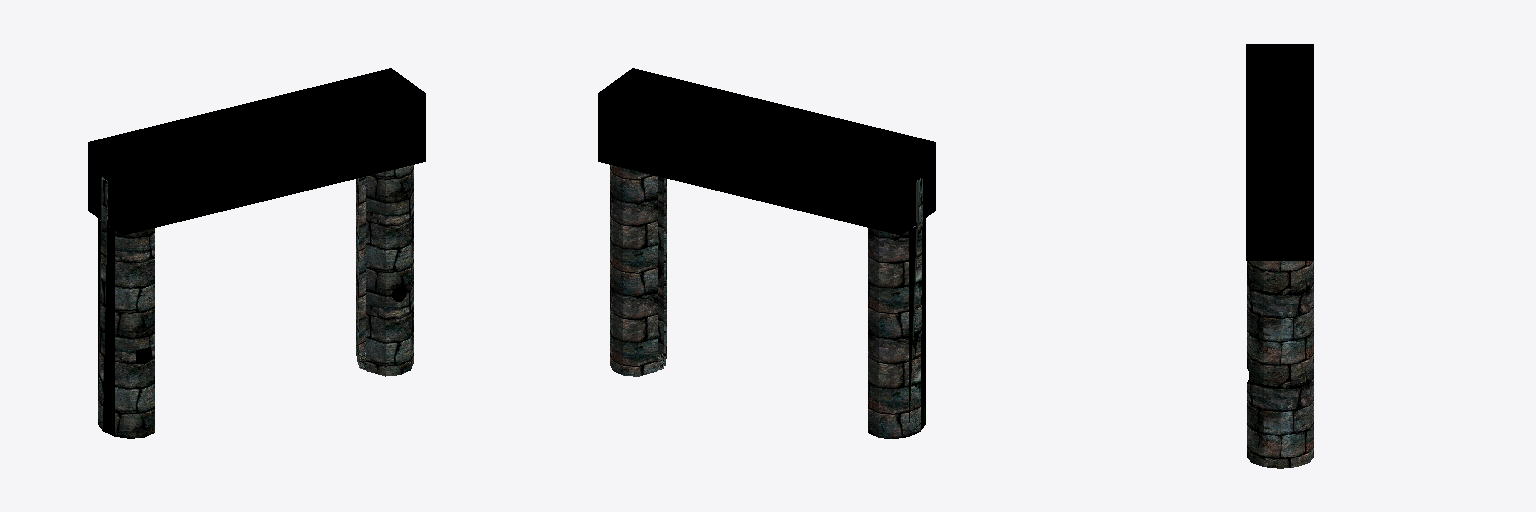
The picture shows the model from 3 angles: view 1: azimuth 30°, elevation 25°; view 2: azimuth 150°, elevation 25°; view 3: azimuth 270°, elevation 25°; orthographic projection.
Visible parts, largest first — view 1: big_doorway_with_key_holes; view 2: big_doorway_with_key_holes; view 3: big_doorway_with_key_holes.
Part boxes in pixels (left/top/right/bottom): big_doorway_with_key_holes: left=88, top=68, right=425, bottom=438; big_doorway_with_key_holes: left=598, top=68, right=935, bottom=438; big_doorway_with_key_holes: left=1246, top=44, right=1313, bottom=468.
Bounding box in the file's own units: 325 × 281 × 63.01.
3 materials, 1 textured.